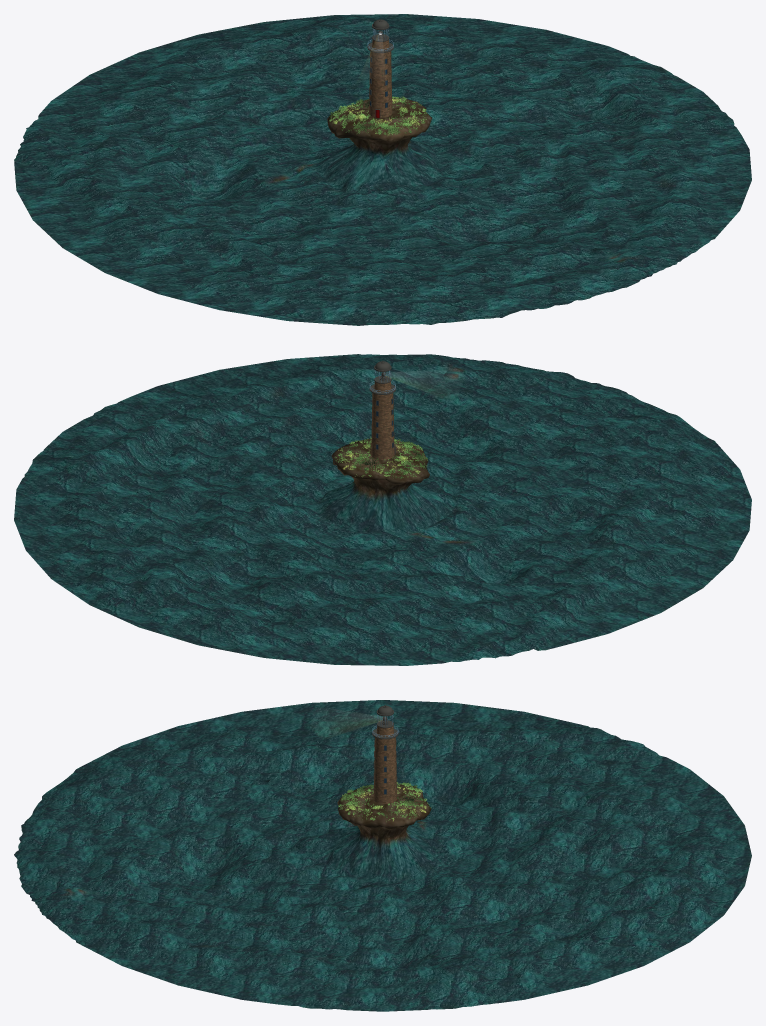
File: lighthouse-island.glb
The picture shows the model from 3 angles, top to bottom: view 1: azimuth 30°, elevation 25°; view 2: azimuth 150°, elevation 25°; view 3: azimuth 270°, elevation 25°; orthographic projection.
Visible parts, largest first — view 1: Ground_Ground_0, Grass_Grass_0, Base_Lighthouse_Bricks_0, Base_Lighthouse_Concrete_0; view 2: Ground_Ground_0, Grass_Grass_0, Base_Lighthouse_Bricks_0, Base_Lighthouse_Concrete_0; view 3: Ground_Ground_0, Base_Lighthouse_Bricks_0, Grass_Grass_0, Base_Lighthouse_Concrete_0.
Boxes of the visible parts, <box> form: Ground_Ground_0: <box>14,14,751,325</box>; Grass_Grass_0: <box>329,96,428,135</box>; Base_Lighthouse_Bricks_0: <box>369,40,392,117</box>; Base_Lighthouse_Concrete_0: <box>367,19,393,117</box>; Ground_Ground_0: <box>14,354,751,665</box>; Grass_Grass_0: <box>334,436,427,478</box>; Base_Lighthouse_Bricks_0: <box>371,382,394,459</box>; Base_Lighthouse_Concrete_0: <box>369,360,395,454</box>; Ground_Ground_0: <box>14,700,751,1011</box>; Base_Lighthouse_Bricks_0: <box>373,726,396,803</box>; Grass_Grass_0: <box>338,782,431,821</box>; Base_Lighthouse_Concrete_0: <box>372,705,398,794</box>.
Bounding box in the file's own units: 72.83 × 18.47 × 72.83.
10 materials, 6 textured.
